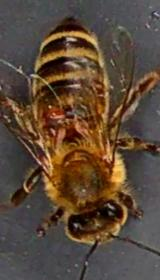varroa_mite: (39, 102, 69, 129)
